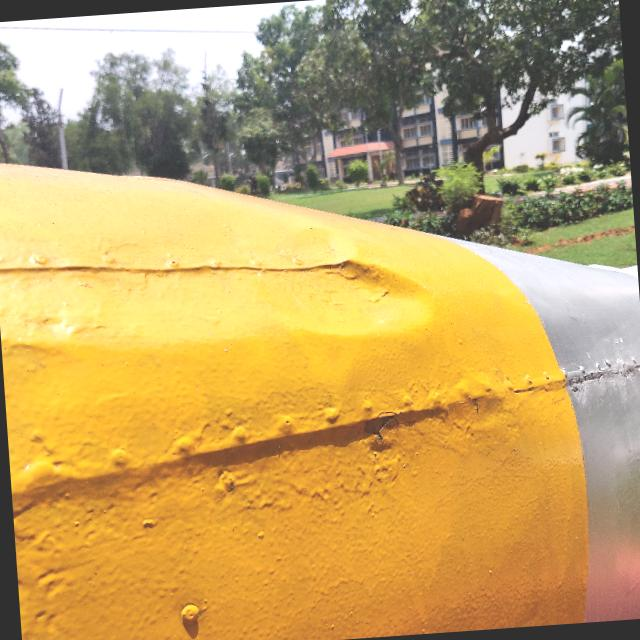dent: (274, 234, 458, 368)
